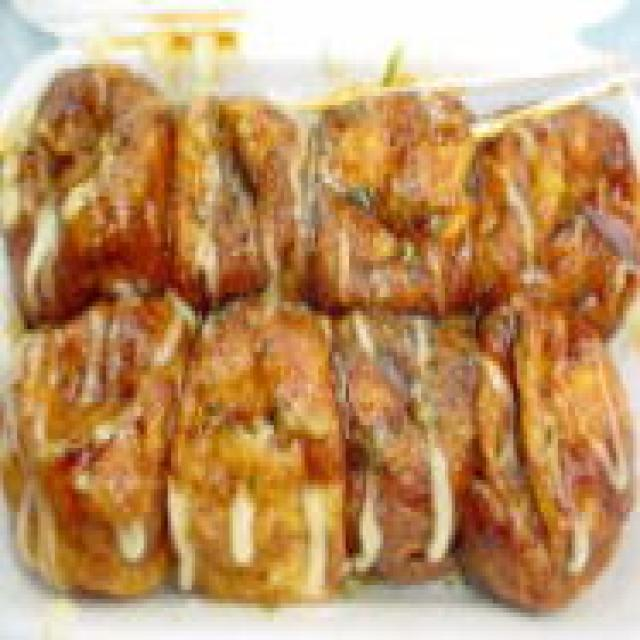炸货点心: (0, 36, 640, 622)
